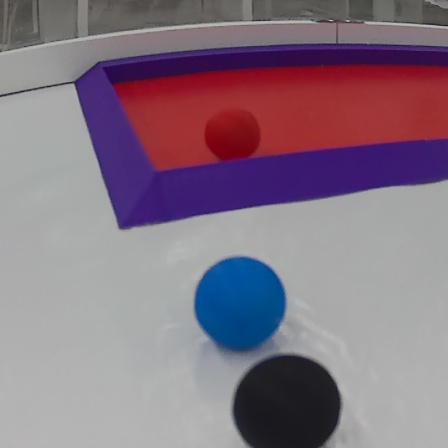black: (233, 358, 350, 446)
blue: (188, 255, 289, 355)
red: (203, 106, 262, 166)
red_aim: (74, 43, 448, 231)
